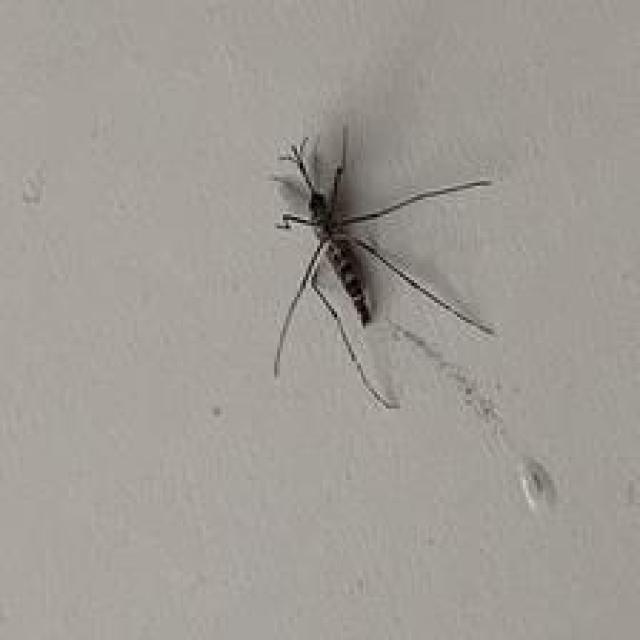Aedes albopictus: (267, 123, 559, 517)
